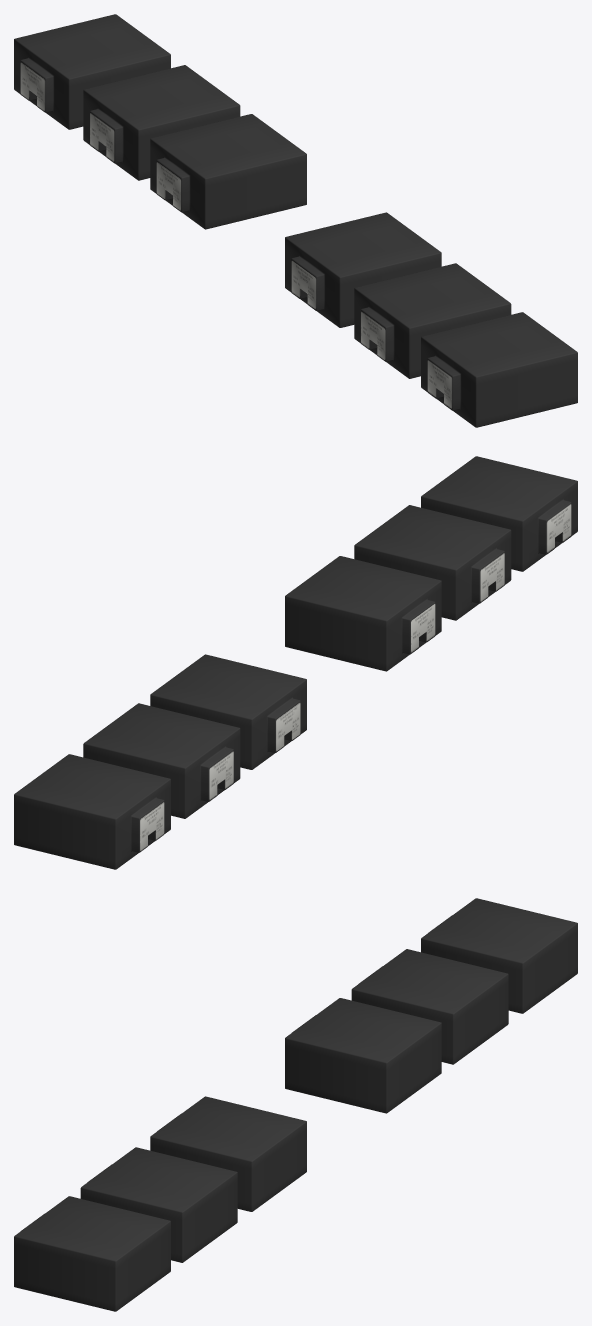
3 renders of one model, top to bottom at view 1: azimuth 30°, elevation 25°; view 2: azimuth 150°, elevation 25°; view 3: azimuth 330°, elevation 25°, orthographic.
Parts seen in each view (by area): view 1: TT.005, TT.008, TT.007, TT.004, TT.003, TT.006; view 2: TT.007, TT.004, TT.006, TT.003, TT.005, TT.008; view 3: TT.005, TT.008, TT.004, TT.007, TT.003, TT.006.
Part boxes in pixels (x1,y1,x2,y2): TT.005: (150, 114, 306, 229); TT.008: (421, 312, 577, 427); TT.007: (285, 212, 441, 327); TT.004: (14, 14, 170, 129); TT.003: (83, 65, 240, 180); TT.006: (354, 263, 511, 378); TT.007: (285, 556, 441, 671); TT.004: (14, 754, 170, 869); TT.006: (354, 505, 511, 620); TT.003: (83, 703, 240, 818); TT.005: (150, 654, 306, 769); TT.008: (421, 456, 577, 571); TT.005: (285, 998, 441, 1113); TT.008: (14, 1196, 170, 1311); TT.004: (421, 898, 577, 1013); TT.007: (150, 1096, 306, 1211); TT.003: (351, 949, 508, 1064); TT.006: (80, 1147, 237, 1262).
Size of the model in its own units: 0.119 by 0.0526 by 0.859.
Materials: 1 (1 with a texture image).
